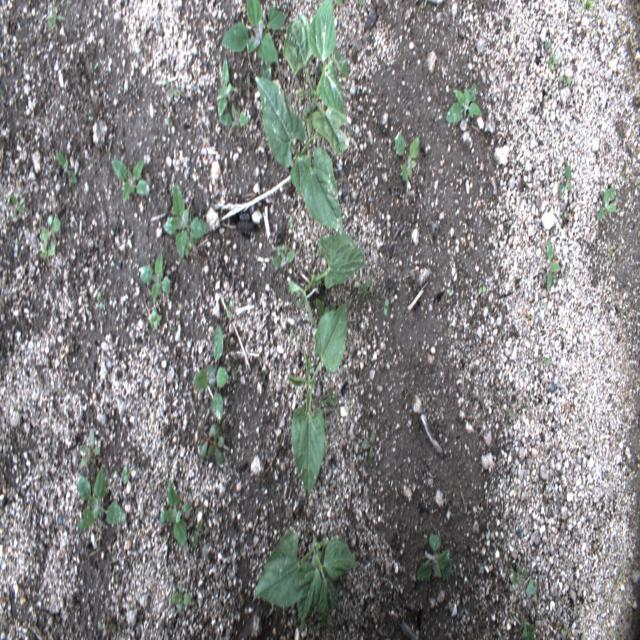crop: (255, 76, 342, 237), (288, 300, 348, 496), (251, 531, 358, 631), (283, 0, 351, 155), (287, 232, 368, 325)
weed: (222, 0, 285, 89), (193, 322, 229, 421), (163, 182, 209, 259), (76, 469, 127, 530), (417, 529, 453, 580), (111, 158, 149, 205), (137, 252, 170, 306), (445, 81, 482, 123), (166, 479, 187, 546), (394, 131, 419, 185), (219, 103, 250, 144), (199, 422, 225, 464), (79, 426, 101, 471), (216, 58, 232, 118), (545, 239, 560, 292), (352, 273, 372, 312), (56, 152, 78, 184), (596, 185, 616, 220), (39, 213, 61, 241), (46, 2, 66, 30), (172, 584, 191, 612), (509, 562, 529, 588), (315, 298, 333, 326), (361, 430, 377, 459), (10, 193, 26, 221), (272, 249, 295, 268), (574, 0, 603, 15), (559, 160, 571, 196), (163, 80, 184, 100), (545, 45, 561, 68), (518, 620, 536, 639), (192, 517, 203, 548), (175, 504, 191, 523), (148, 306, 160, 330), (97, 621, 116, 636), (324, 386, 338, 406), (302, 104, 315, 125), (41, 241, 56, 259), (608, 237, 616, 269), (326, 599, 333, 634), (159, 508, 174, 524), (197, 419, 210, 435), (122, 465, 132, 484), (314, 394, 326, 409), (322, 416, 331, 435), (245, 74, 252, 98), (320, 441, 331, 456), (563, 75, 573, 91), (329, 0, 344, 10), (226, 299, 233, 318), (97, 291, 104, 309), (383, 297, 389, 316), (317, 248, 328, 258), (544, 40, 552, 53), (543, 357, 553, 366), (290, 328, 297, 339), (72, 502, 80, 511), (446, 288, 452, 298), (563, 622, 567, 637), (416, 575, 424, 582), (479, 286, 486, 293), (421, 400, 427, 408), (290, 216, 293, 228), (423, 0, 427, 8), (359, 0, 365, 5), (88, 115, 93, 120)
